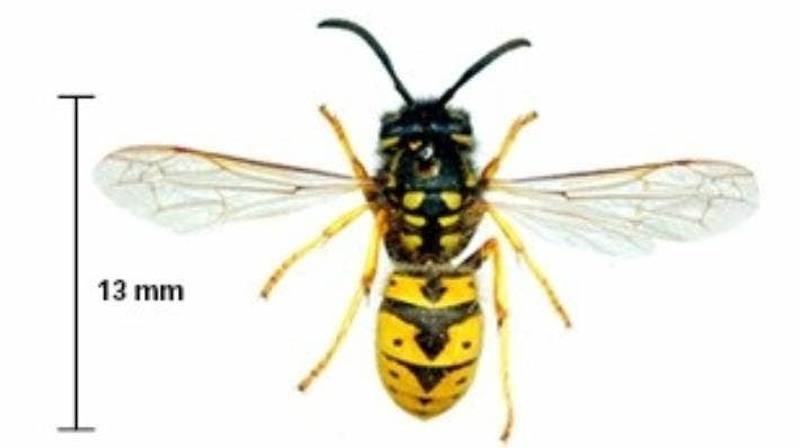chax: (188, 5, 768, 448)
